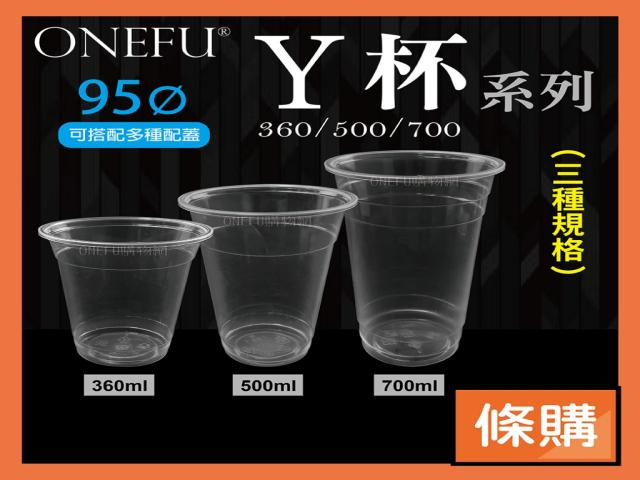cup: (325, 151, 505, 366), (178, 185, 358, 366), (39, 218, 212, 367)
